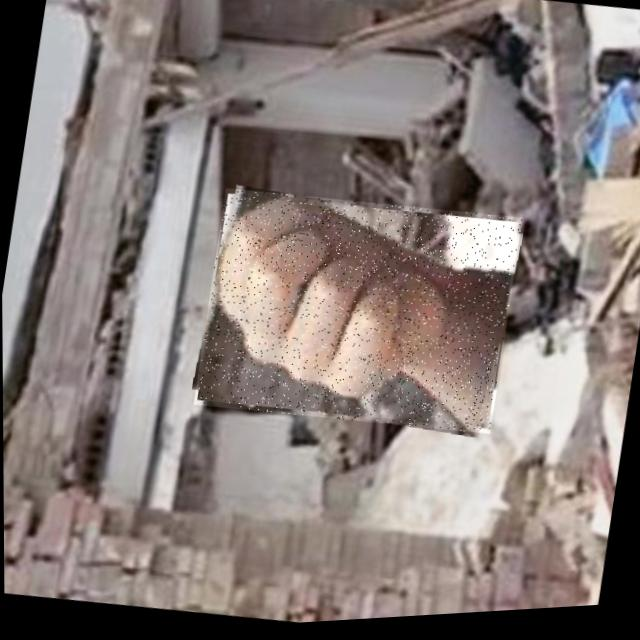Person in Rubble: (192, 176, 523, 453)
